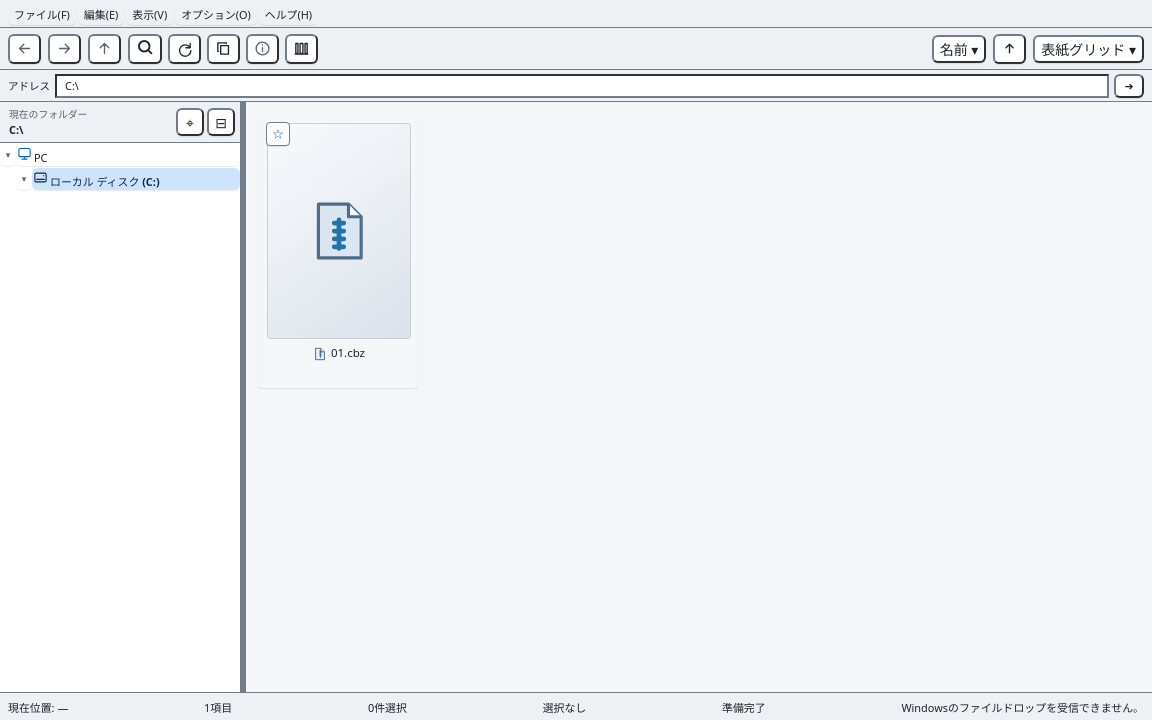
Test: FR-B10 connected tag management › FT-B10-003 exposes rename and duplicate-merge results from the backend
Click the button "01.cbz": (338, 251) [258,114,418,388]
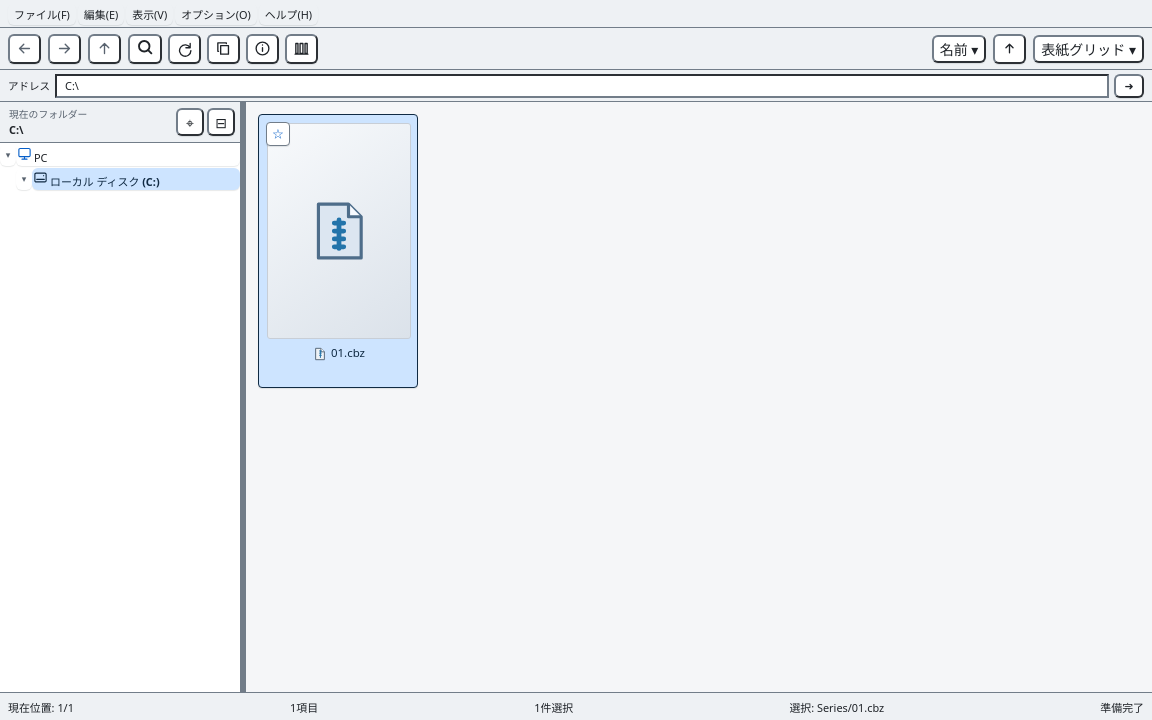
Click the menu item "オプション(O)": (216, 14) [175,2,257,24]
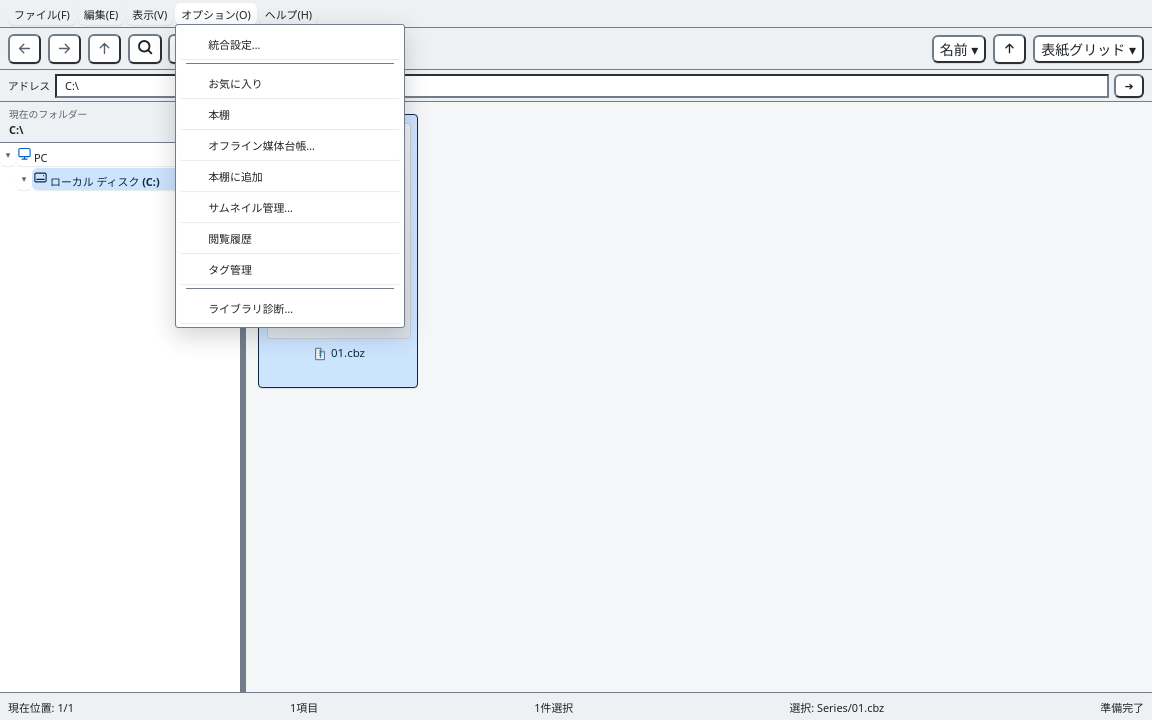
Click the menu item "タグ管理": (290, 269) [180,254,400,284]
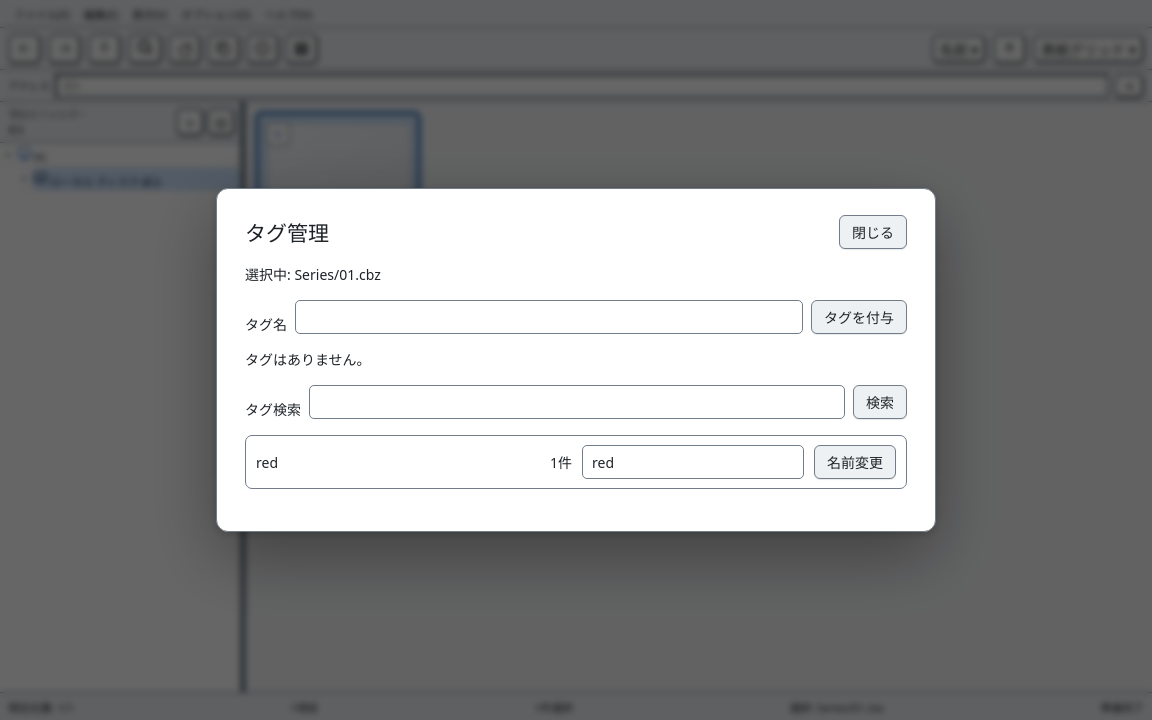
Replace the text in the field named "redの新名称" with " Ｂｌｕｅ ": (693, 462) [582,445,804,479]
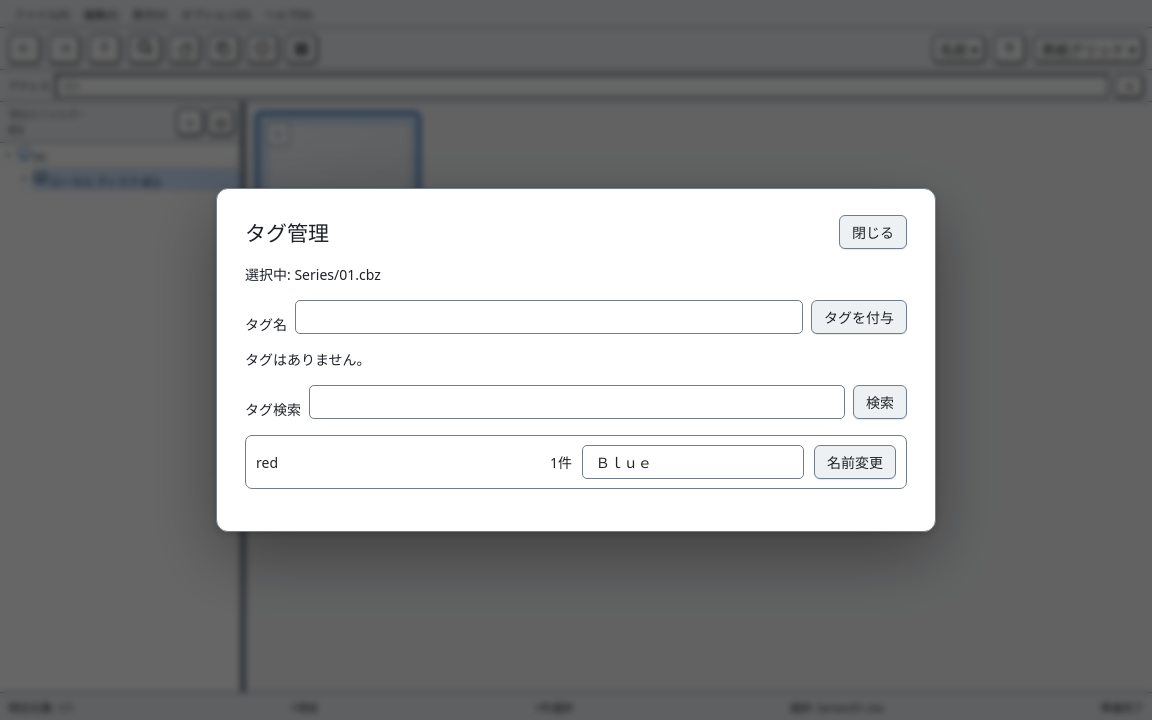
Click the button with aria-label "redをrename": (855, 462) [814,445,896,479]
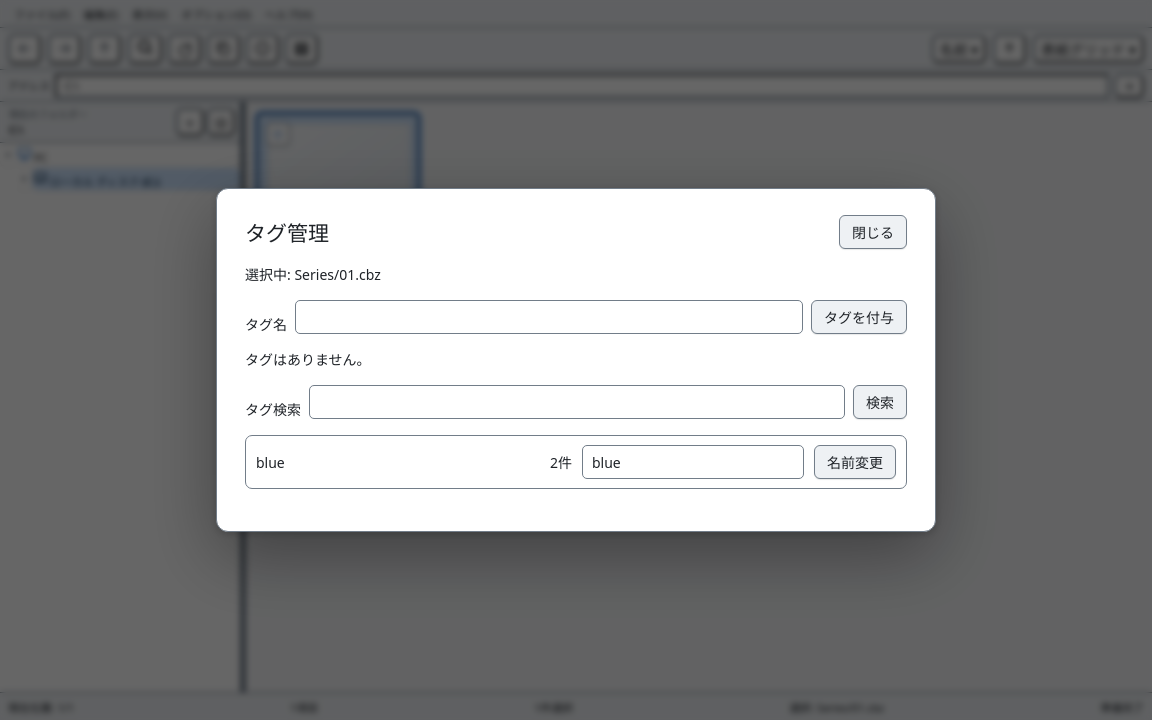
Expected: the field named "blueの新名称" is shown, [582,445,804,479]
Expected: the text "2件" is shown, [550,452,572,472]
